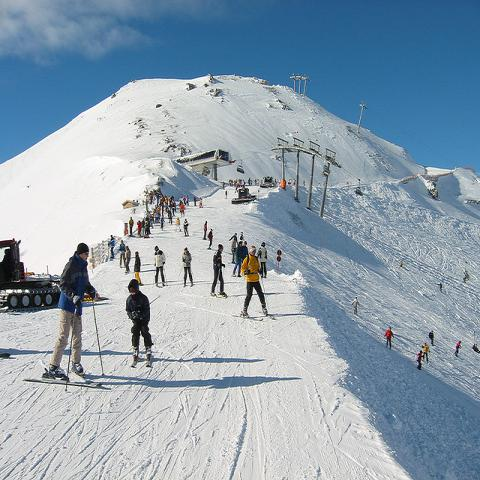truck: (0, 238, 109, 313)
